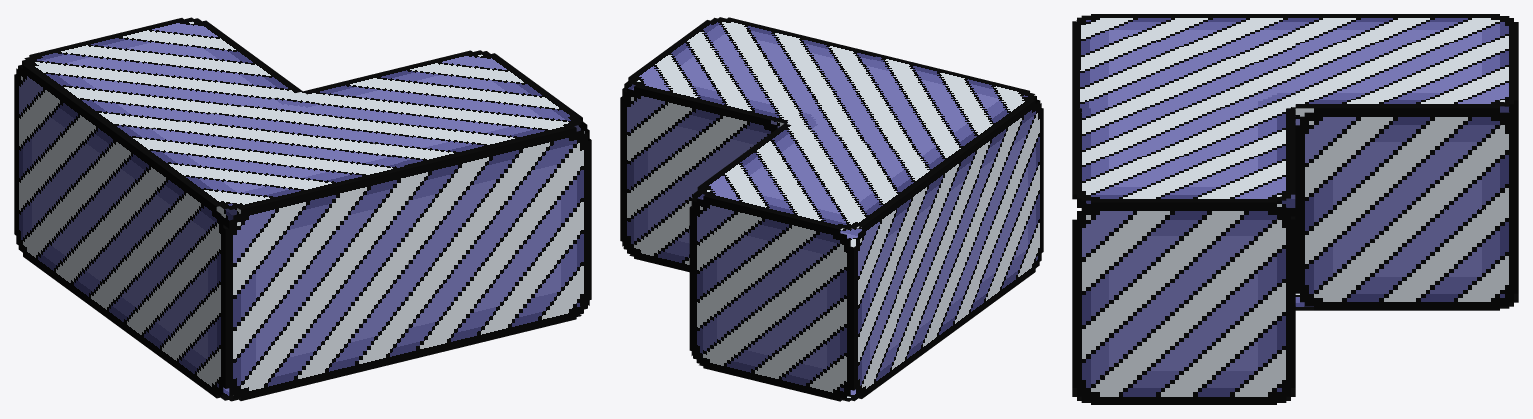
The model's file is l_blocgkg.gltf.
The picture shows the model from 3 angles, left to right: view 1: azimuth 30°, elevation 25°; view 2: azimuth 150°, elevation 25°; view 3: azimuth 270°, elevation 25°; orthographic projection. The views are drawn at different scales.
Visible parts, largest first — view 1: mesh (×3); view 2: mesh (×3); view 3: mesh (×3).
Part boxes in pixels (<box>): mesh (×3): <box>14,17,591,401</box>; mesh (×3): <box>620,17,1043,401</box>; mesh (×3): <box>1072,14,1518,404</box>.
Size of the model in its own units: 6 by 3 by 6.
1 material, 1 textured.
